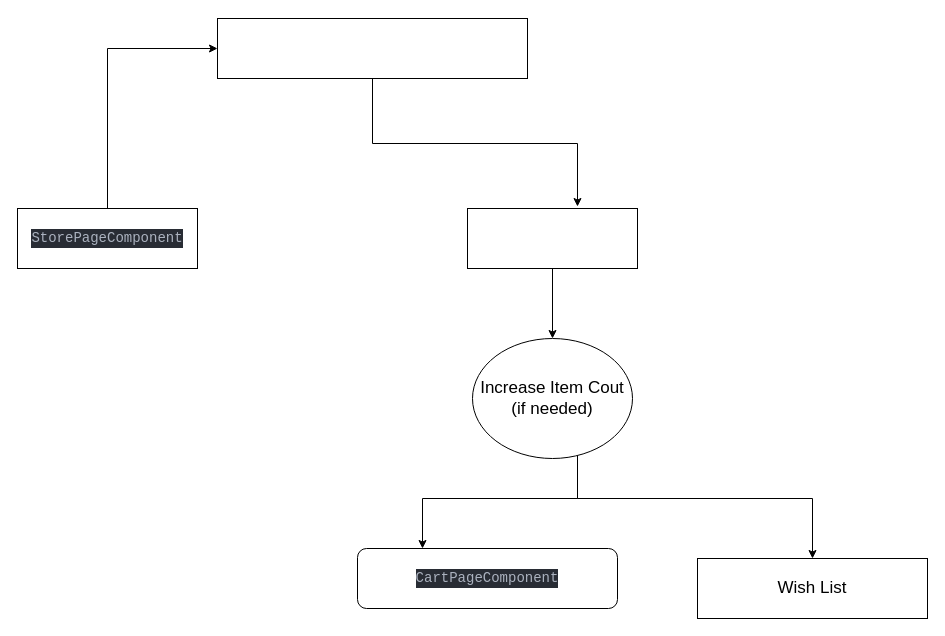
Image size: 945x636. Some labels were removed from this diagram. Here are the shapes that lost their labels. From the top down, the box of each, then its label:
(216, 18, 528, 78): StoreItemInteractionService
(466, 208, 638, 268): ModalComponent
